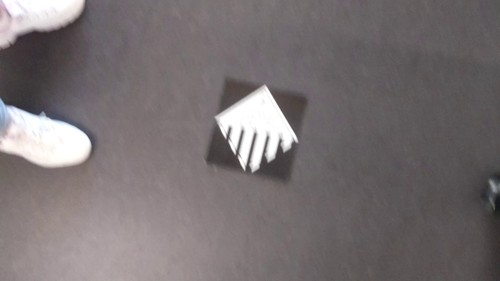misgoods: (212, 84, 303, 176)
